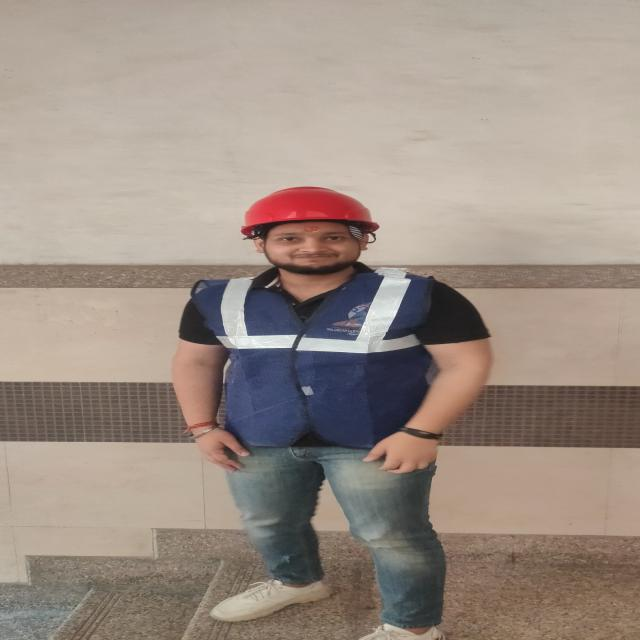safe: (171, 186, 491, 640)
